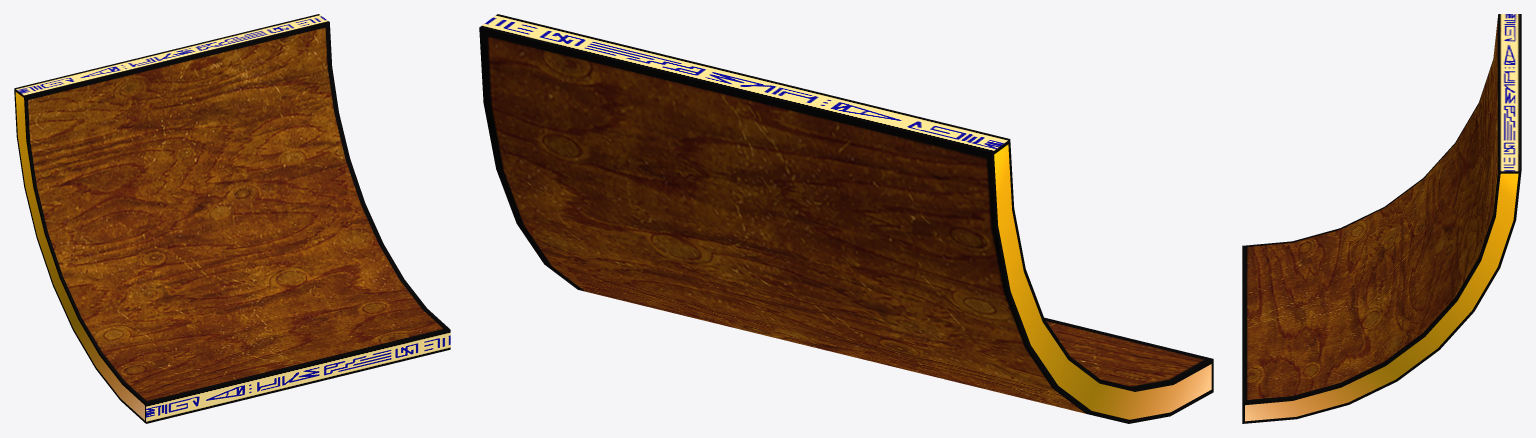
Rendered from jungle_quarter_circle.gltf.
3 views of the same model, side by side, from view 1: azimuth 30°, elevation 25°; view 2: azimuth 150°, elevation 25°; view 3: azimuth 270°, elevation 25° (orthographic). The views are drawn at different scales.
Parts seen in each view (by area): view 1: jungle_quarter_circle_glb; view 2: jungle_quarter_circle_glb; view 3: jungle_quarter_circle_glb.
Boxes of the visible parts, box(x1,y1,x2,y2) form: jungle_quarter_circle_glb: box(14, 14, 450, 423); jungle_quarter_circle_glb: box(479, 14, 1213, 423); jungle_quarter_circle_glb: box(1242, 14, 1521, 423).
Size of what is drawn, in the model's own units: 4 by 3 by 3.
Materials: 1 (1 with a texture image).
